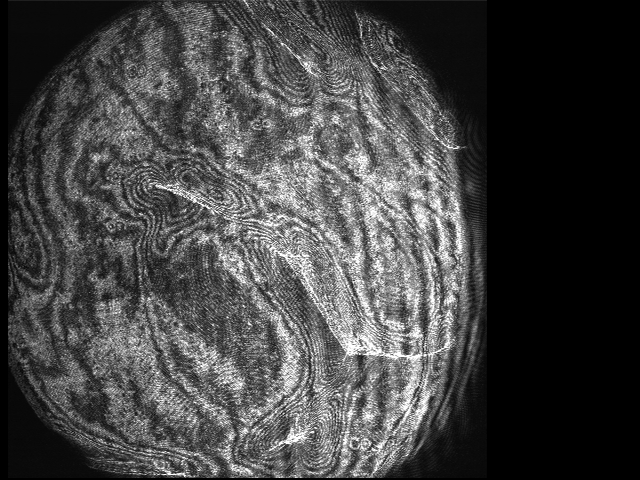plume: (124, 156, 264, 230)
